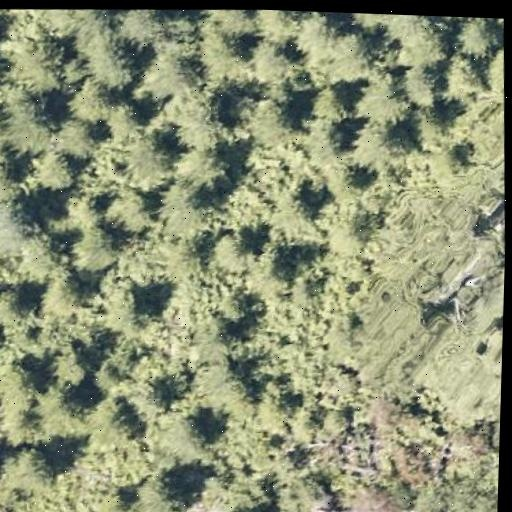tree-top: (406, 316, 503, 430), (7, 26, 70, 93), (3, 89, 64, 153), (82, 391, 143, 452), (117, 126, 176, 185), (157, 178, 212, 241), (140, 38, 197, 97), (167, 93, 223, 153), (236, 93, 297, 148), (188, 353, 245, 410), (88, 30, 137, 93), (3, 440, 58, 496), (157, 229, 213, 284), (352, 70, 409, 124), (67, 222, 124, 275), (347, 116, 404, 167), (0, 352, 44, 416), (95, 280, 148, 332), (132, 463, 187, 512), (177, 140, 229, 191), (41, 382, 89, 437), (105, 182, 156, 233), (65, 70, 116, 121), (248, 36, 296, 86), (31, 146, 80, 194), (164, 412, 211, 462), (112, 7, 168, 48), (251, 383, 296, 434), (291, 11, 343, 55), (206, 228, 254, 275), (438, 48, 484, 97), (40, 268, 84, 317), (55, 111, 100, 156), (307, 80, 353, 124), (48, 343, 92, 387), (397, 64, 439, 108), (212, 282, 256, 324), (62, 190, 104, 233), (455, 17, 500, 57), (278, 178, 322, 218), (256, 235, 295, 280), (382, 14, 438, 45), (247, 9, 299, 41), (49, 7, 103, 37), (412, 107, 450, 148), (206, 8, 257, 37), (0, 282, 34, 325), (0, 196, 26, 245), (486, 37, 505, 88), (207, 497, 266, 512), (0, 154, 15, 201), (484, 18, 503, 24)
